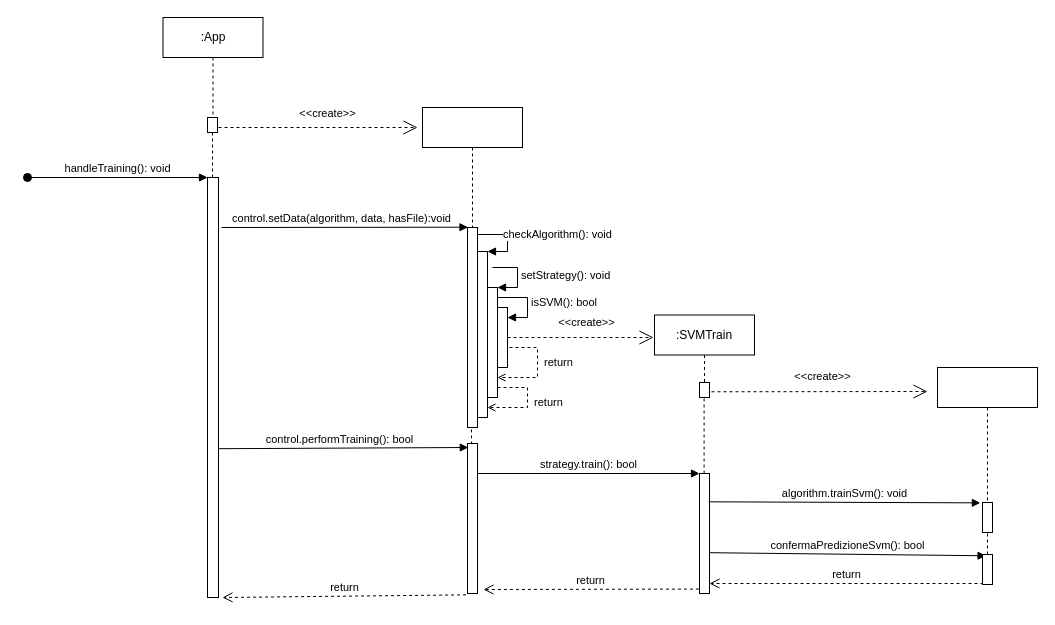
Some shapes in this 1055 by 625 pixel diagram are drawn without their labels. The shapes that lost their labels are listed below. From the top down, each one's box as (x1, y1, x2, y2) in pixels, then its label:
(422, 106, 522, 228): :ViewModel
(936, 366, 1038, 558): :SupportSvm
